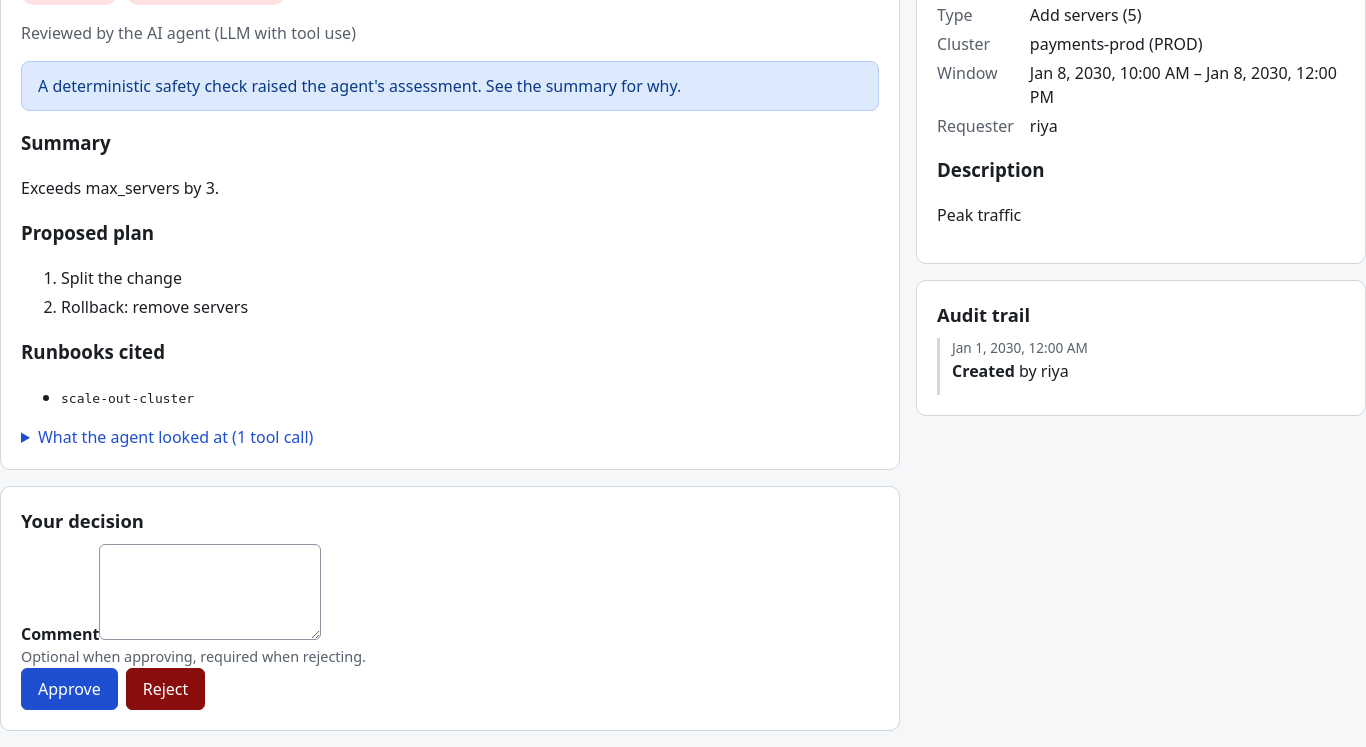
Test case: RequestDetail › requires a reason before rejecting
This screenshot has width=1366, height=747.
(page scrolled)
What coordinates should you click on to do the following:
click the button "Reject"
I would click on:
 (166, 688)
Its box is 126,668 -> 205,710.
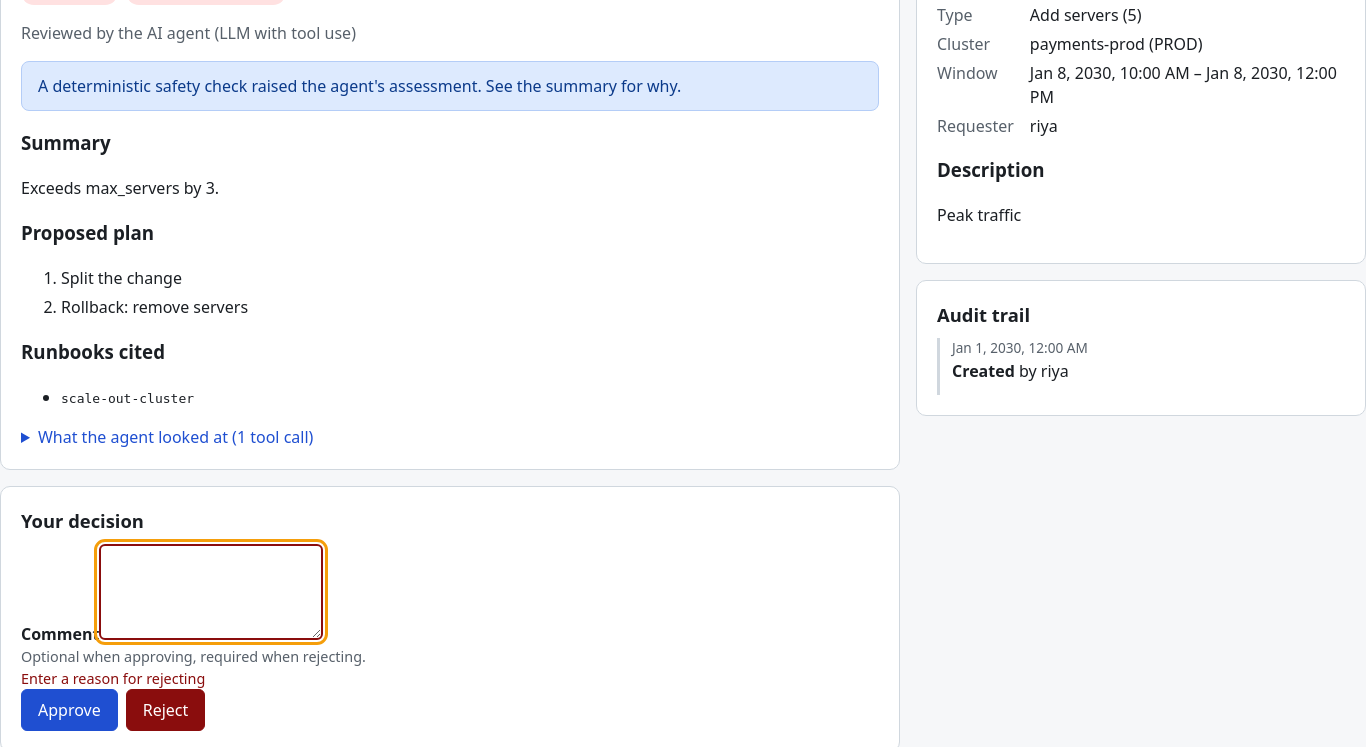
Result: the text "Enter a reason for rejecting" is shown at 21,668 -> 205,688
